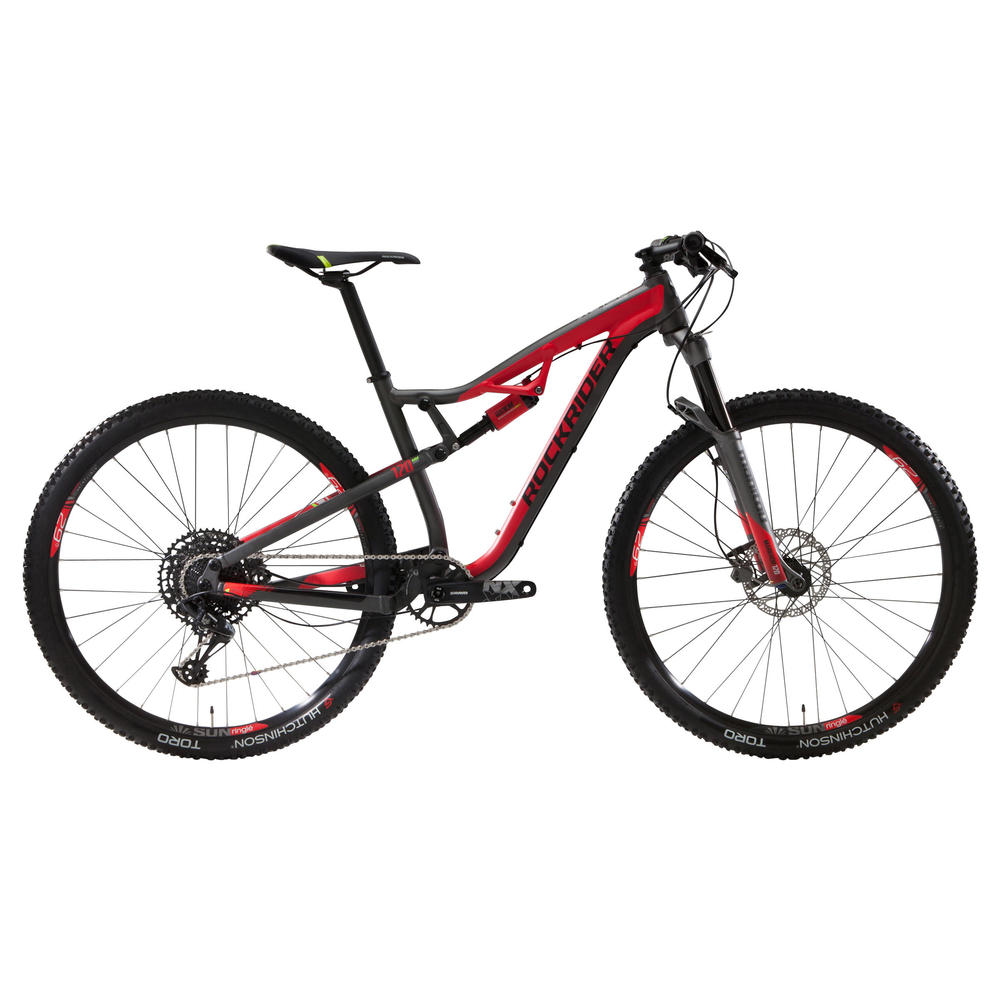RoadBike: (14, 45, 980, 887)
